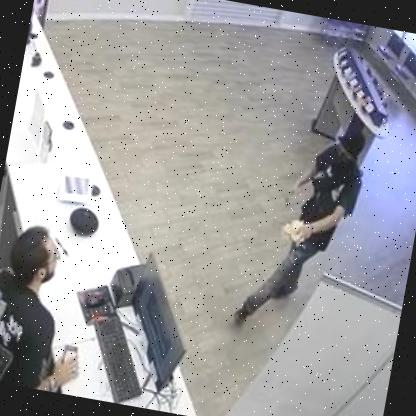person: (232, 109, 374, 341), (0, 213, 109, 396)
